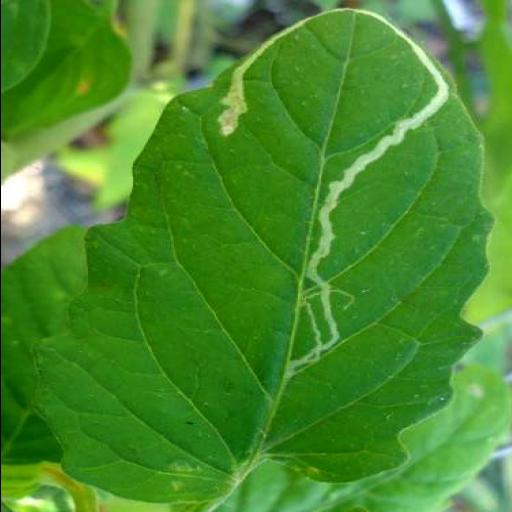disease_tomato: (27, 8, 497, 504)
